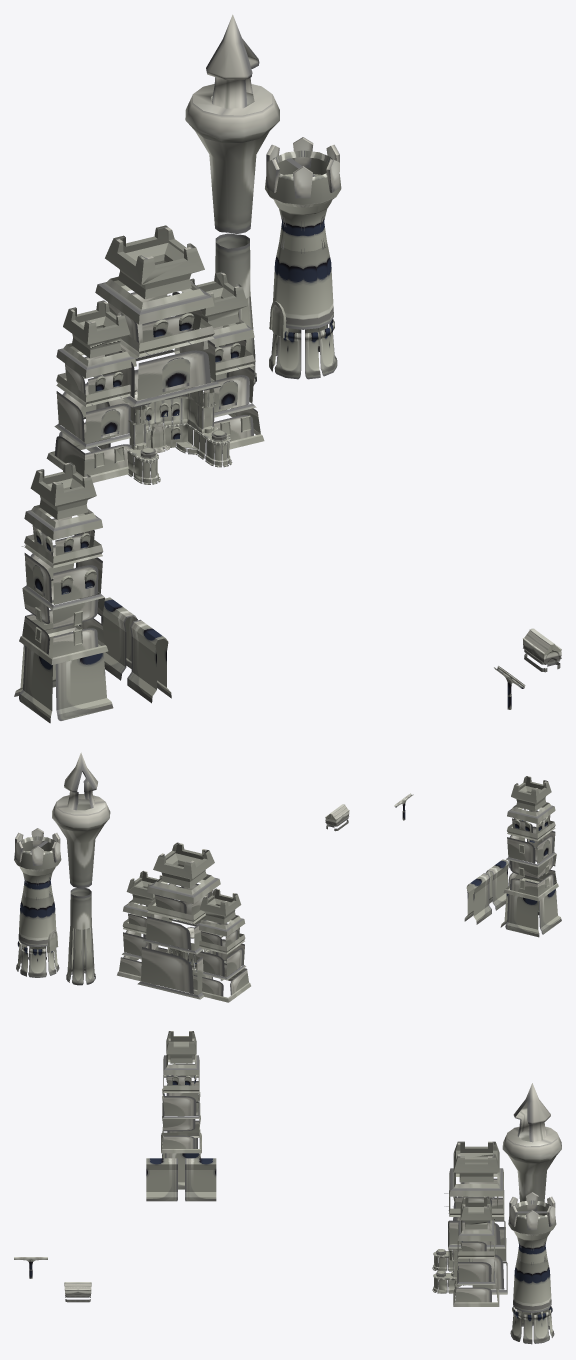
The picture shows the model from 3 angles, top to bottom: view 1: azimuth 30°, elevation 25°; view 2: azimuth 150°, elevation 25°; view 3: azimuth 270°, elevation 25°; orthographic projection. The views are drawn at different scales.
Parts seen in each view (by area): view 1: Y_jianzhu, Y_ta1, Y_ta, Y_mofata, Y_qiang, Y_fanghzi; view 2: Y_jianzhu, Y_ta1, Y_mofata, Y_ta, Y_qiang, Y_fanghzi; view 3: Y_jianzhu, Y_ta, Y_ta1, Y_mofata, Y_qiang, Y_fanghzi.
Part boxes in pixels (box(x1,y1,x2,y2)): Y_jianzhu: box(46, 225, 264, 484); Y_ta1: box(14, 462, 113, 723); Y_ta: box(265, 137, 341, 379); Y_mofata: box(185, 14, 279, 385); Y_qiang: box(101, 597, 171, 703); Y_fanghzi: box(523, 628, 561, 672); Y_jianzhu: box(117, 842, 250, 1002); Y_ta1: box(500, 776, 561, 937); Y_mofata: box(52, 752, 110, 985); Y_ta: box(14, 828, 61, 977); Y_qiang: box(464, 859, 508, 924); Y_fanghzi: box(325, 804, 349, 831); Y_jianzhu: box(432, 1141, 507, 1306); Y_ta: box(508, 1192, 556, 1344); Y_ta1: box(161, 1031, 201, 1189); Y_mofata: box(502, 1083, 561, 1315); Y_qiang: box(146, 1158, 216, 1201); Y_fanghzi: box(64, 1282, 91, 1302).
Bounding box in the file's own units: 33.24 × 20.36 × 43.08.
